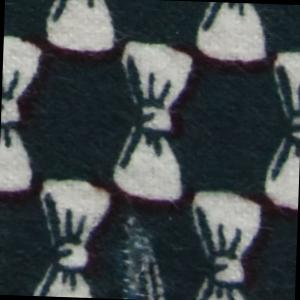Damage: (113, 211, 175, 300)
